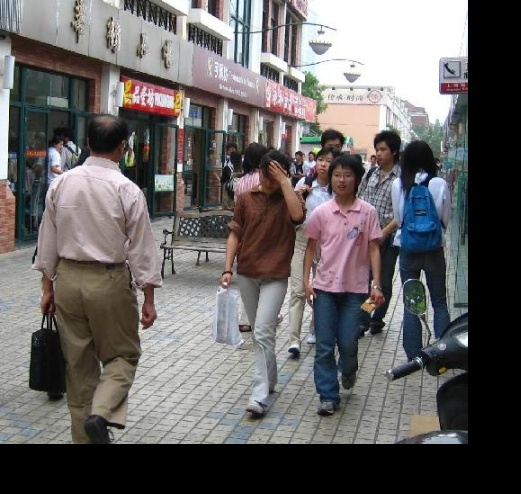person: (26, 104, 153, 443), (227, 147, 291, 420), (311, 153, 367, 422), (391, 140, 452, 356)
